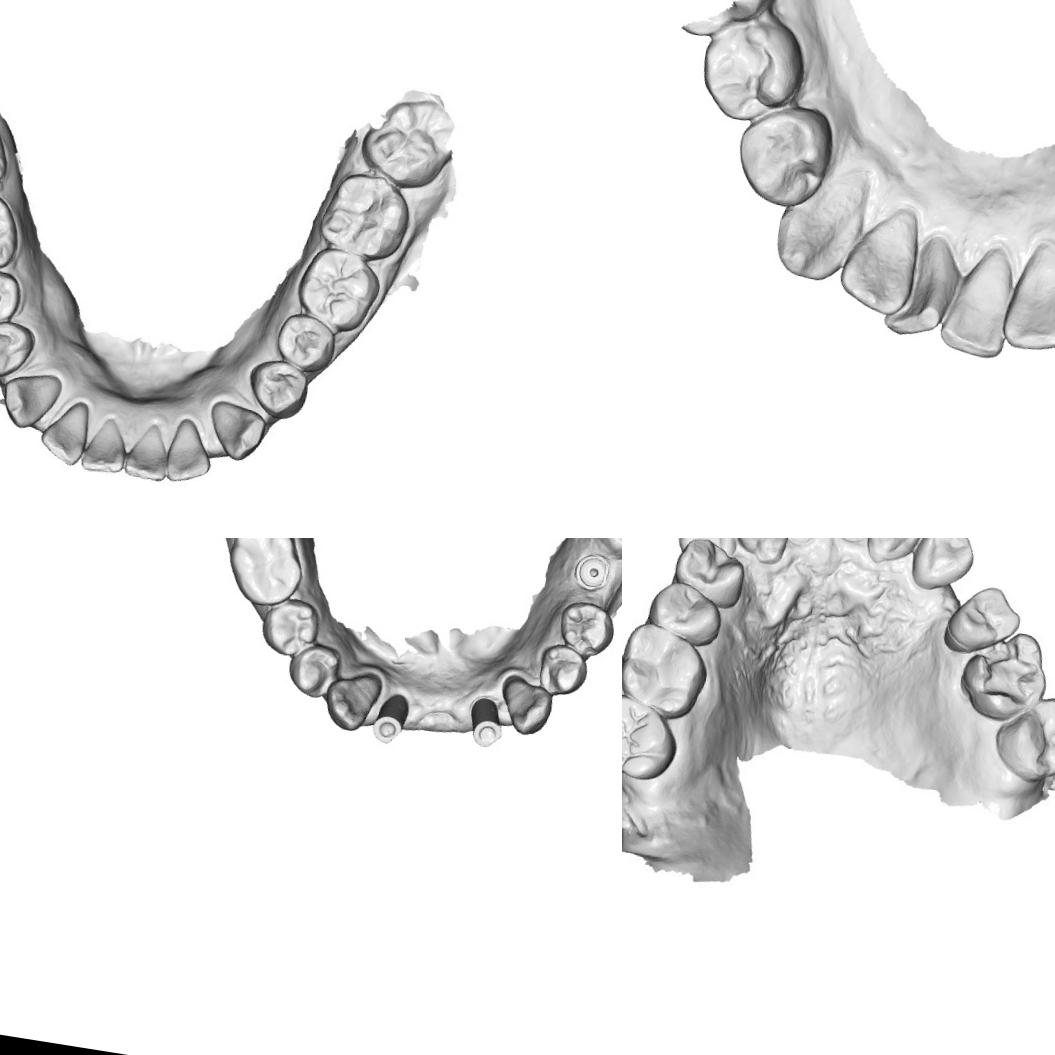canine: (770, 160, 872, 288), (206, 396, 273, 464), (906, 538, 980, 596), (495, 672, 558, 740), (321, 666, 383, 735), (0, 366, 59, 434), (673, 538, 744, 566)
implant: (464, 693, 508, 750), (369, 690, 412, 747), (570, 550, 614, 596)
incisor: (931, 242, 1020, 362), (836, 204, 926, 318), (881, 230, 965, 344), (998, 240, 1055, 356), (35, 396, 90, 470), (164, 414, 217, 490), (124, 418, 176, 484), (78, 412, 130, 478), (862, 538, 929, 570), (727, 538, 796, 569)
inlay: (968, 628, 1042, 710)
molar: (622, 618, 715, 724), (318, 164, 418, 260), (361, 90, 458, 188), (294, 238, 386, 333), (987, 688, 1055, 792), (221, 538, 312, 613), (622, 693, 686, 785), (0, 183, 27, 277)
premolar: (690, 10, 812, 131), (728, 99, 840, 215), (940, 576, 1028, 662), (642, 576, 728, 651), (667, 538, 751, 612), (256, 592, 324, 661), (552, 596, 618, 662), (274, 311, 340, 376), (246, 356, 313, 420), (284, 640, 344, 701), (535, 638, 592, 700), (0, 316, 40, 378), (0, 263, 30, 332)
